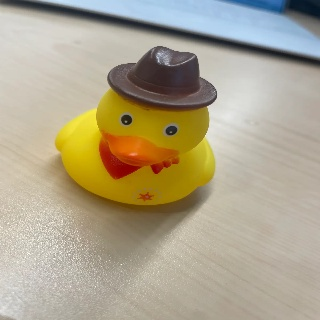duck_specialty: (54, 45, 215, 206)
